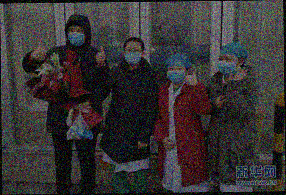with_mask: (216, 55, 239, 78), (166, 65, 187, 85), (123, 45, 142, 67), (66, 26, 85, 46)
